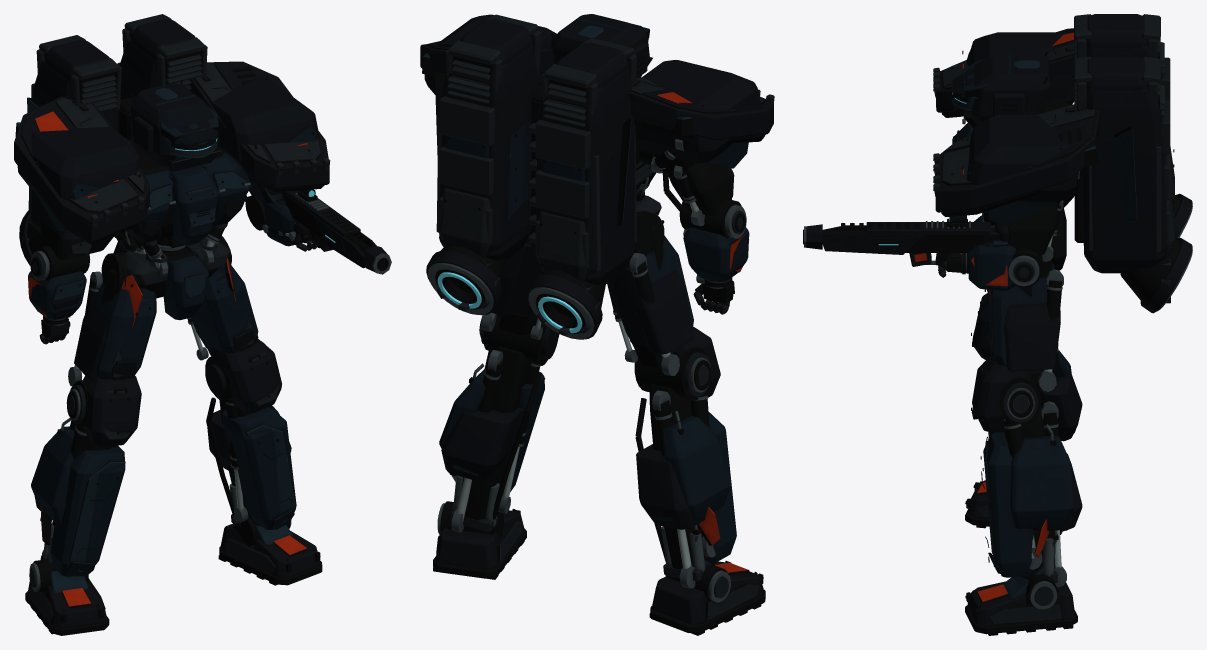
Rendered from m07-cangyan-v10.glb.
The picture shows the model from 3 angles, left to right: view 1: azimuth 30°, elevation 25°; view 2: azimuth 150°, elevation 25°; view 3: azimuth 270°, elevation 25°; orthographic projection. The views are drawn at different scales.
Parts seen in each view (by area): view 1: M07_Upper_cangyan_armor, M07_Upper_tiechao_armor, M07_Upper_armor, M07_Shin_L_armor, M07_Shin_R_armor, M07_Thigh_L_armor, M07_Body_armor, M07_Rifle_armor, M07_Foot_R_armor, M07_Foot_L_armor, M07_Thigh_R_armor, M07_Upper_bailu_armor; view 2: M07_Upper_tiechao_armor, M07_Upper_cangyan_armor, M07_Shin_L_armor, M07_Shin_R_armor, M07_Upper_armor, M07_Thigh_L_armor, M07_Foot_L_armor, M07_Foot_R_armor, M07_Upper_bailu_armor, M07_Thigh_R_armor, M07_Upper_bailu_optics, M07_Body_armor; view 3: M07_Upper_cangyan_armor, M07_Upper_tiechao_armor, M07_Shin_R_armor, M07_Rifle_armor, M07_Thigh_R_armor, M07_Foot_R_armor, M07_Upper_armor, M07_Shin_L_armor, M07_Upper_bailu_armor, M07_Foot_L_armor, M07_Body_armor.
Boxes of the visible parts, <box> form: M07_Upper_cangyan_armor: <box>14,14,330,265</box>; M07_Upper_tiechao_armor: <box>17,37,319,230</box>; M07_Upper_armor: <box>28,138,282,344</box>; M07_Shin_L_armor: <box>31,375,141,576</box>; M07_Shin_R_armor: <box>205,338,296,529</box>; M07_Thigh_L_armor: <box>68,252,156,386</box>; M07_Body_armor: <box>100,237,236,328</box>; M07_Rifle_armor: <box>262,189,391,274</box>; M07_Foot_R_armor: <box>218,517,322,585</box>; M07_Foot_L_armor: <box>25,553,109,635</box>; M07_Thigh_R_armor: <box>187,235,258,360</box>; M07_Upper_bailu_armor: <box>15,80,201,162</box>; M07_Upper_tiechao_armor: <box>424,14,762,285</box>; M07_Upper_cangyan_armor: <box>420,14,774,339</box>; M07_Shin_L_armor: <box>634,327,736,588</box>; M07_Shin_R_armor: <box>439,314,559,532</box>; M07_Upper_armor: <box>538,83,749,314</box>; M07_Thigh_L_armor: <box>607,211,693,375</box>; M07_Foot_L_armor: <box>649,560,765,635</box>; M07_Foot_R_armor: <box>433,501,526,579</box>; M07_Upper_bailu_armor: <box>422,25,693,334</box>; M07_Thigh_R_armor: <box>481,240,542,339</box>; M07_Upper_bailu_optics: <box>437,272,582,333</box>; M07_Body_armor: <box>636,195,664,272</box>; M07_Upper_cangyan_armor: <box>933,14,1192,313</box>; M07_Upper_tiechao_armor: <box>962,32,1170,269</box>; M07_Shin_R_armor: <box>971,355,1082,587</box>; M07_Rifle_armor: <box>803,215,1015,291</box>; M07_Thigh_R_armor: <box>984,259,1063,391</box>; M07_Foot_R_armor: <box>965,567,1077,635</box>; M07_Upper_armor: <box>952,100,1076,287</box>; M07_Shin_L_armor: <box>971,293,1082,445</box>; M07_Upper_bailu_armor: <box>969,51,1137,274</box>; M07_Foot_L_armor: <box>965,480,1067,534</box>; M07_Body_armor: <box>974,208,1066,303</box>.
Size of the model in its own units: 9.44 by 17.16 by 11.53.
3 materials, 1 textured.
